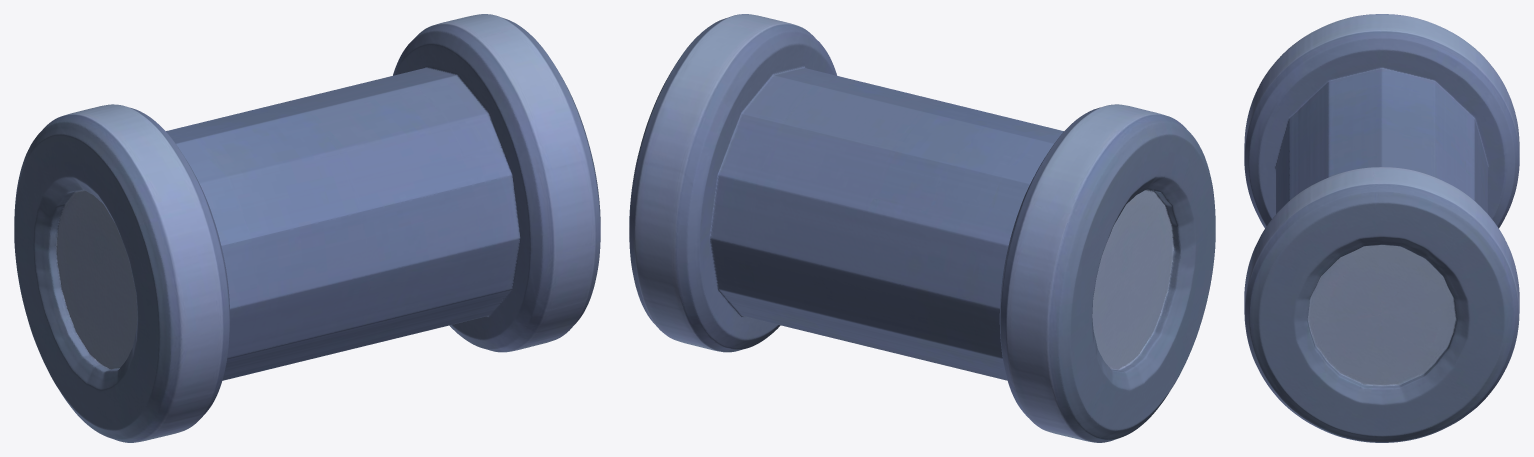
File: PipeStraight.glb
3 views of the same model, side by side, from view 1: azimuth 30°, elevation 25°; view 2: azimuth 150°, elevation 25°; view 3: azimuth 270°, elevation 25° (orthographic). The views are drawn at different scales.
Visible parts, largest first — view 1: tripo_node_fe41d916-4e4b-496c-a8f1-dc21be096296; view 2: tripo_node_fe41d916-4e4b-496c-a8f1-dc21be096296; view 3: tripo_node_fe41d916-4e4b-496c-a8f1-dc21be096296.
Part boxes in pixels (bbox=[...]): tripo_node_fe41d916-4e4b-496c-a8f1-dc21be096296: bbox=[14, 14, 600, 442]; tripo_node_fe41d916-4e4b-496c-a8f1-dc21be096296: bbox=[629, 14, 1215, 442]; tripo_node_fe41d916-4e4b-496c-a8f1-dc21be096296: bbox=[1244, 14, 1519, 442].
Size of the model in its own units: 1 by 0.6624 by 0.6367.
1 material, 1 textured.
